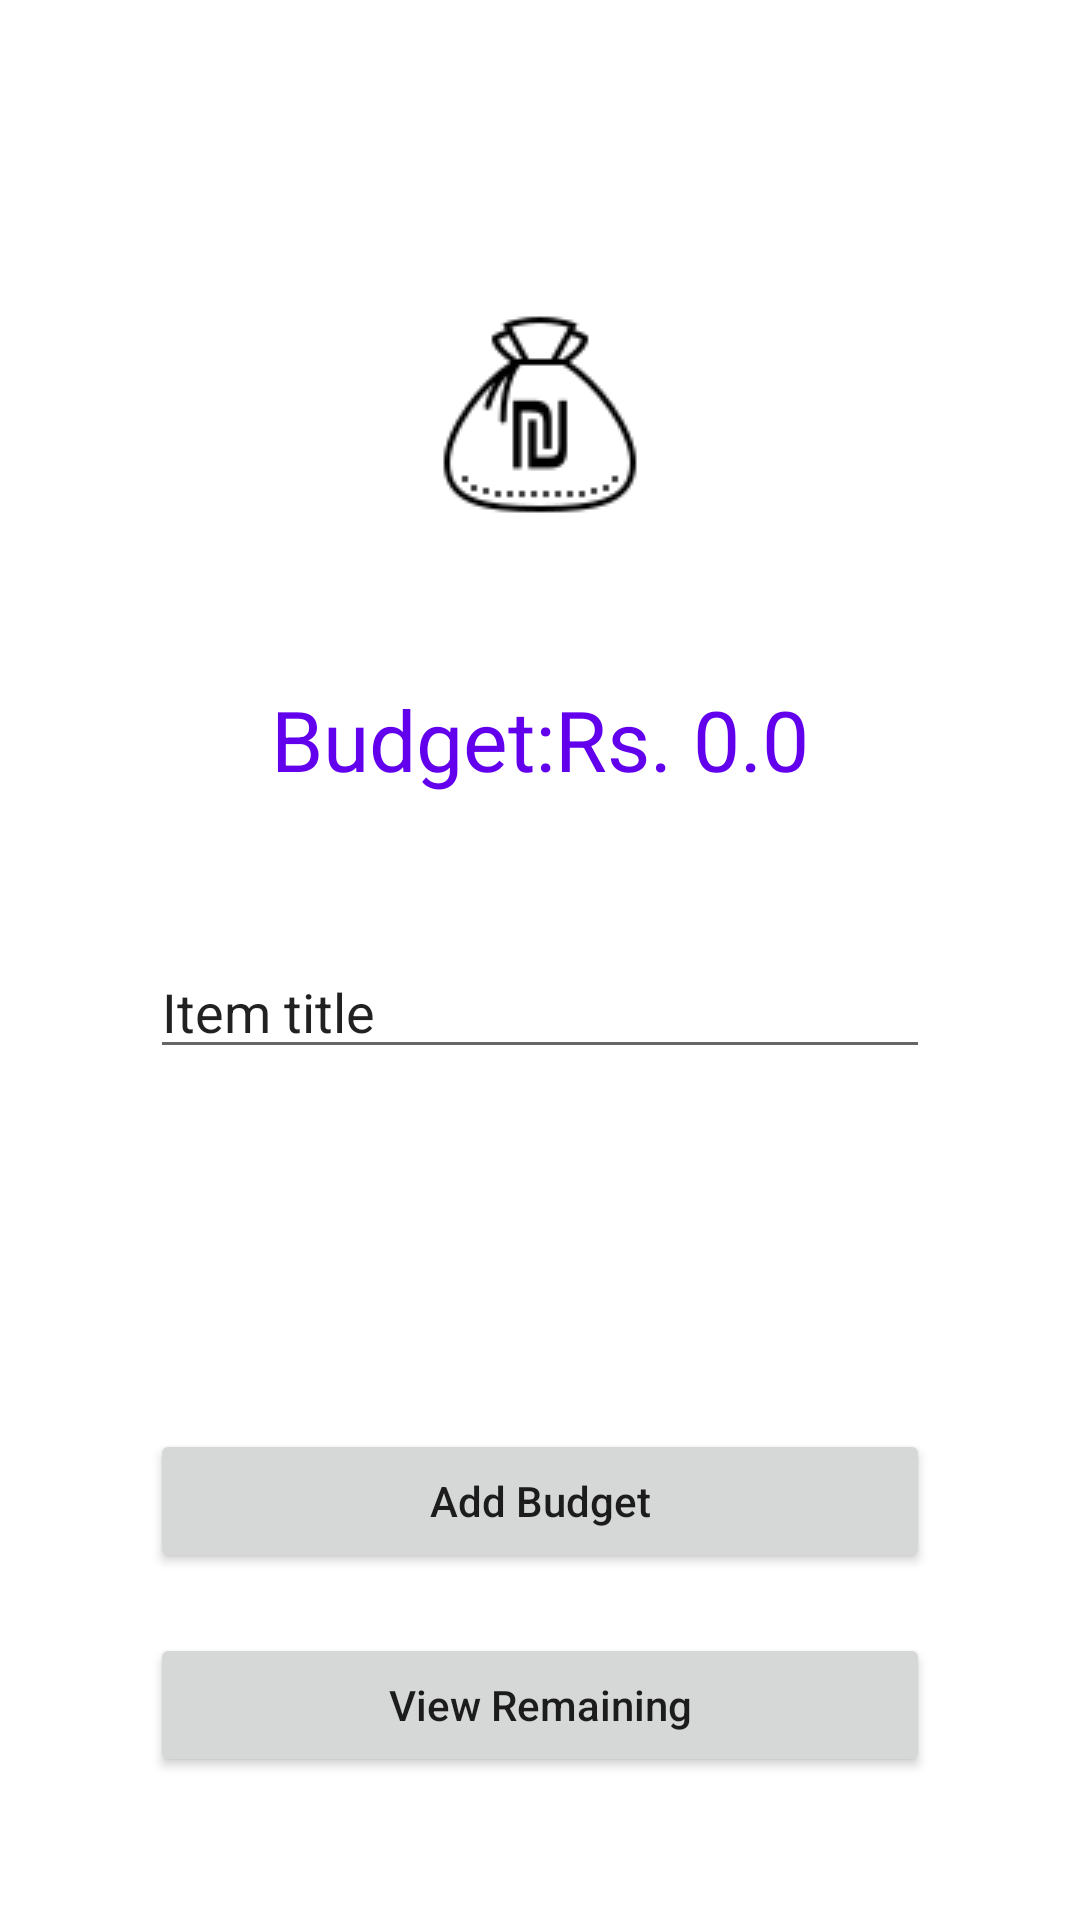

Named icons in this screenshot (1080*1920) and their bounding boxes, (x1=x1, y1=y1, x2=x2, y2=y2):
money: (x1=443, y1=316, x2=637, y2=513)
